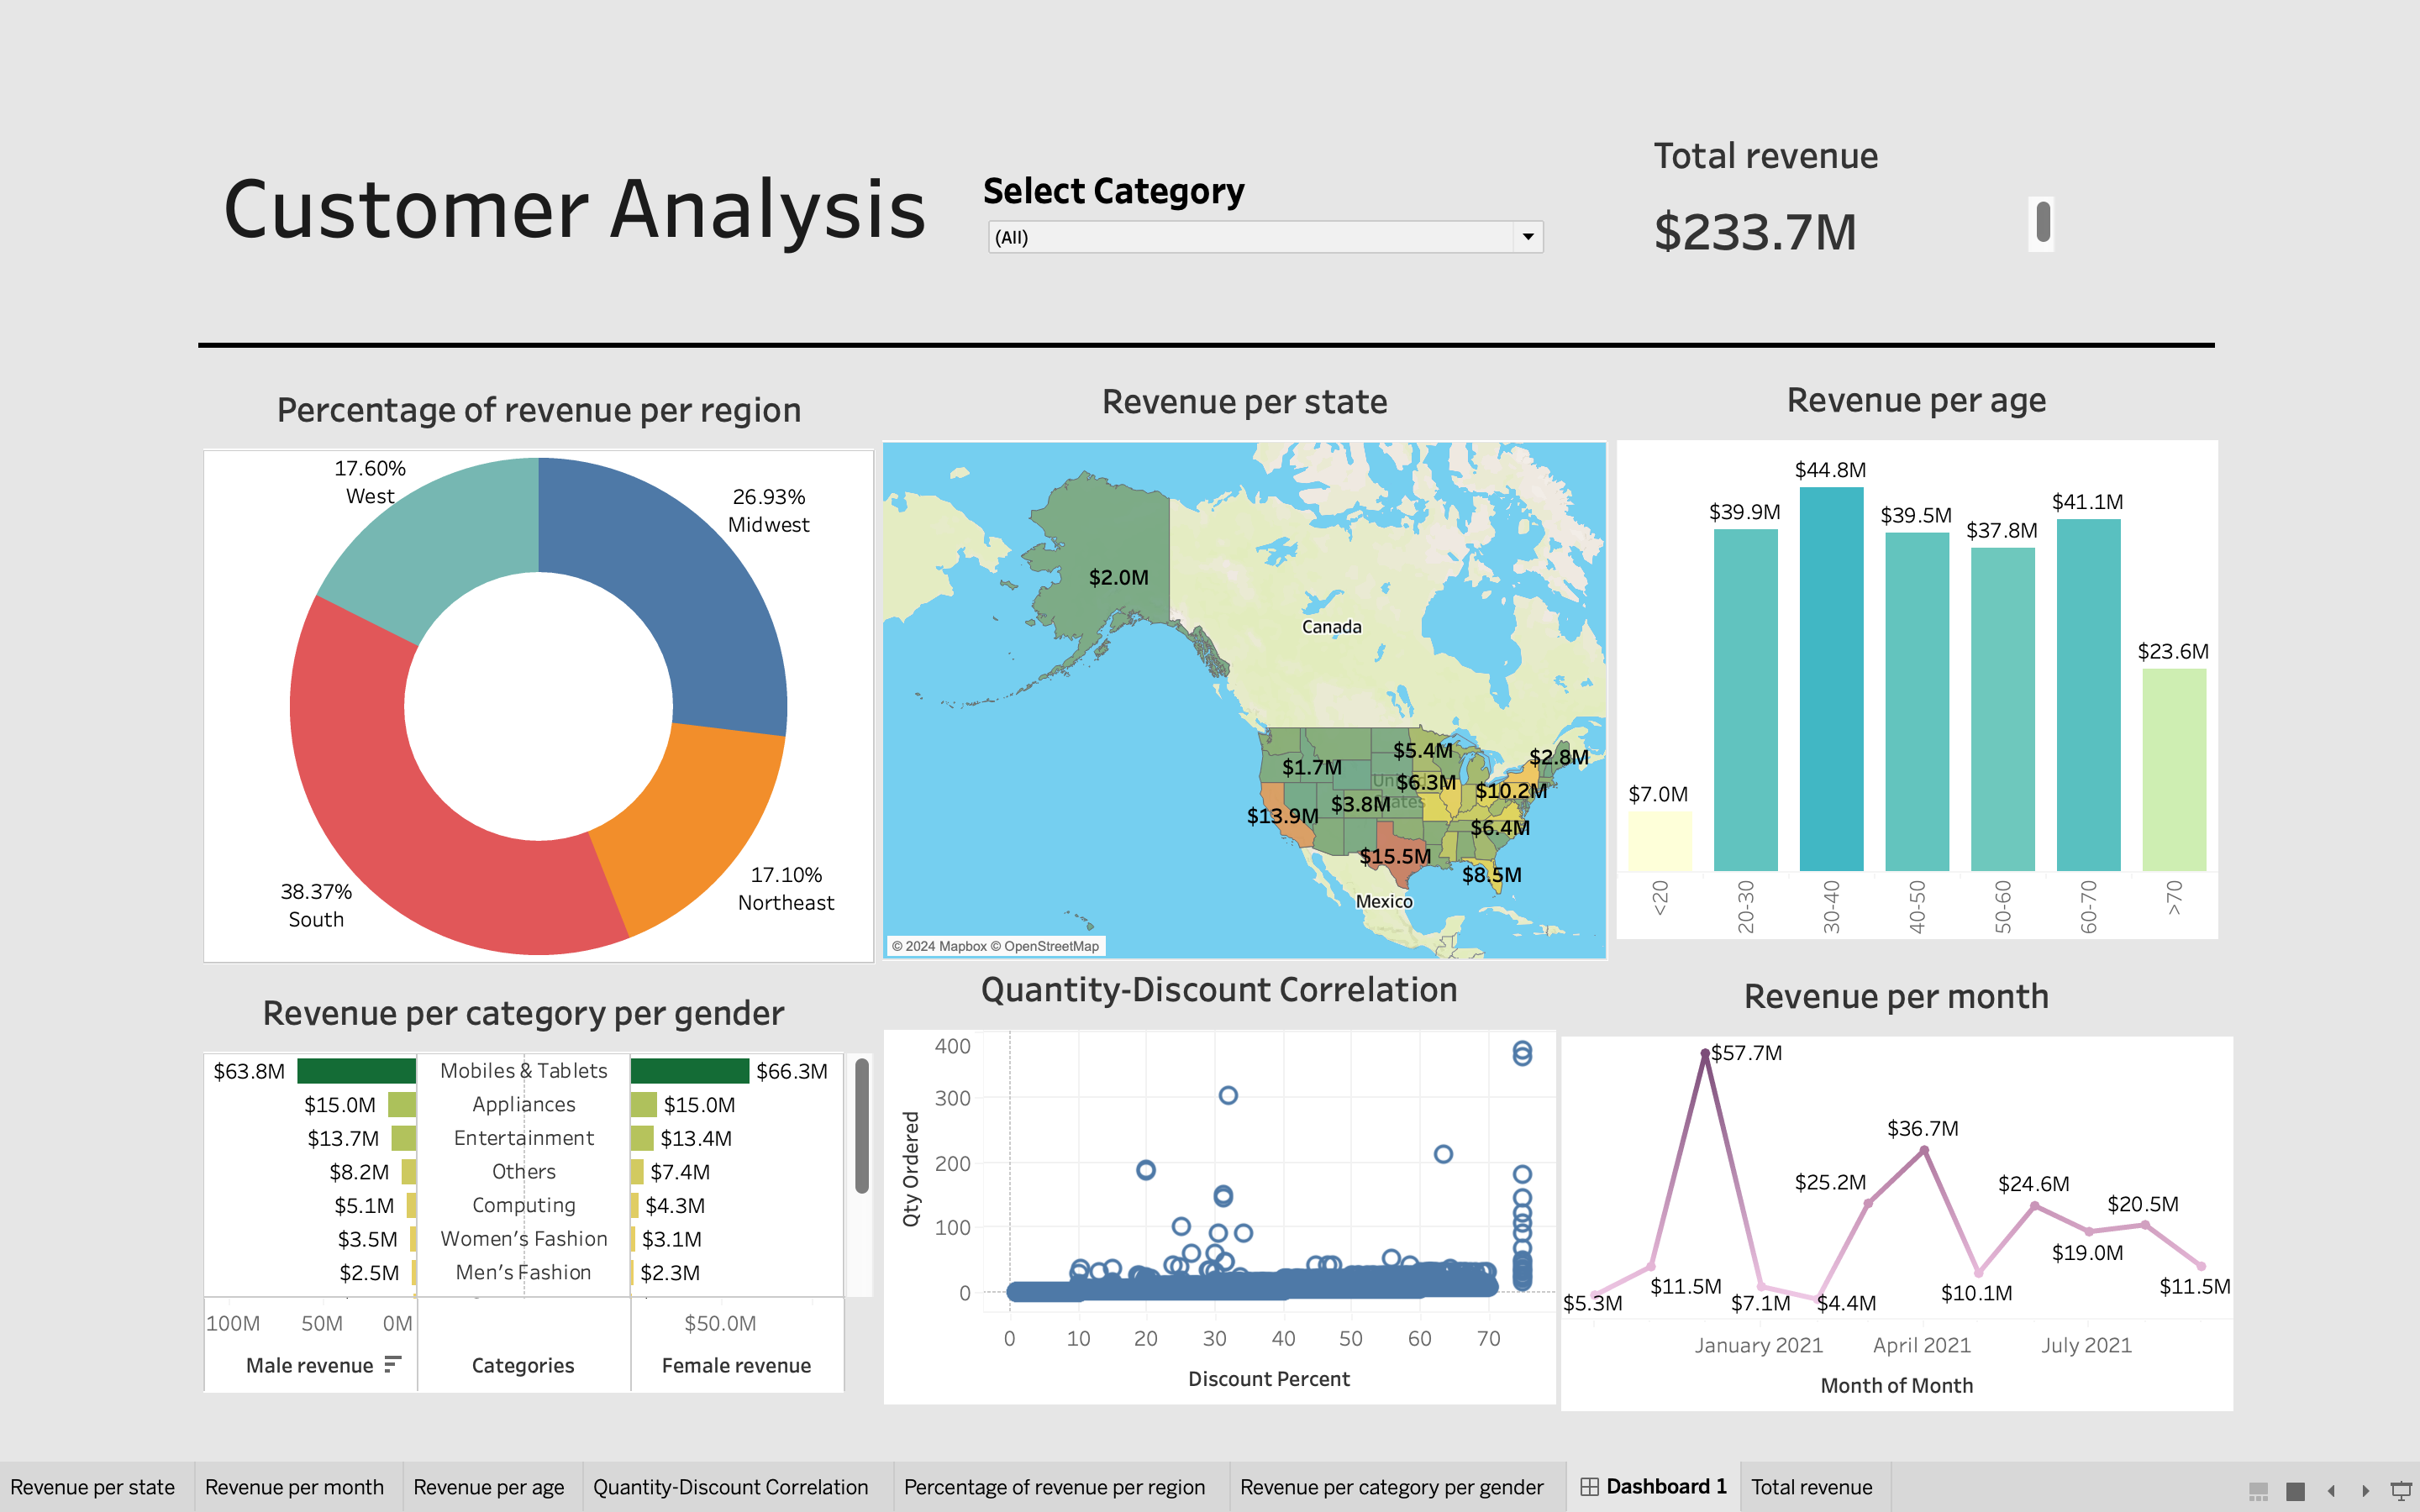

The page's visual inventory and layout, read from the dashboard file:
{"tool":"tableau","page":{"name":"Dashboard 1","canvas":[1200,800],"ordinal":0},"visuals":[{"type":"text","box":[9,28,429,117]},{"type":"worksheet","title":"Total revenue","mark":"Automatic","box":[860,38,243,77]},{"type":"filter","title":"Revenue per category per gender","param":"[federated.0y4pdzr0w600qm16ulzno1upx7bs].[none:category:nk]","box":[465,63,337,67]},{"type":"worksheet","title":"Revenue per age","mark":"Automatic","rows":["total"],"cols":["Age (bin)"],"box":[842,184,358,340]},{"type":"worksheet","title":"Revenue per state","mark":"Automatic","box":[405,185,432,352]},{"type":"worksheet","title":"Percentage of revenue per region","mark":"Pie","rows":["Calculation_1396045575375708162","Calculation_1396045575375708162"],"box":[1,190,400,349]},{"type":"worksheet","title":"Quantity-Discount Correlation","mark":"Automatic","rows":["qty_ordered"],"cols":["Discount_Percent"],"box":[406,535,400,266]},{"type":"worksheet","title":"Revenue per category per gender","mark":"Automatic","rows":["category"],"cols":["Calculation_1396045575378116612","Calculation_1396045575375708162","Calculation_1396045575377801219"],"box":[1,549,399,245]}]}

Visuals, with their boxes on the page's 1200x800 design canvas (x1, y1, x2, y2). These are canvas units, not pixel positions in the 2420x1512 screenshot, which may show the page scaled, cropped or inside an application window:
text: (x1=9, y1=28, x2=438, y2=145)
"Total revenue" worksheet: (x1=860, y1=38, x2=1103, y2=115)
"Revenue per category per gender" filter: (x1=465, y1=63, x2=802, y2=130)
"Revenue per age" worksheet: (x1=842, y1=184, x2=1200, y2=524)
"Revenue per state" worksheet: (x1=405, y1=185, x2=837, y2=537)
"Percentage of revenue per region" worksheet (Pie marks): (x1=1, y1=190, x2=401, y2=539)
"Quantity-Discount Correlation" worksheet: (x1=406, y1=535, x2=806, y2=801)
"Revenue per category per gender" worksheet: (x1=1, y1=549, x2=400, y2=794)
